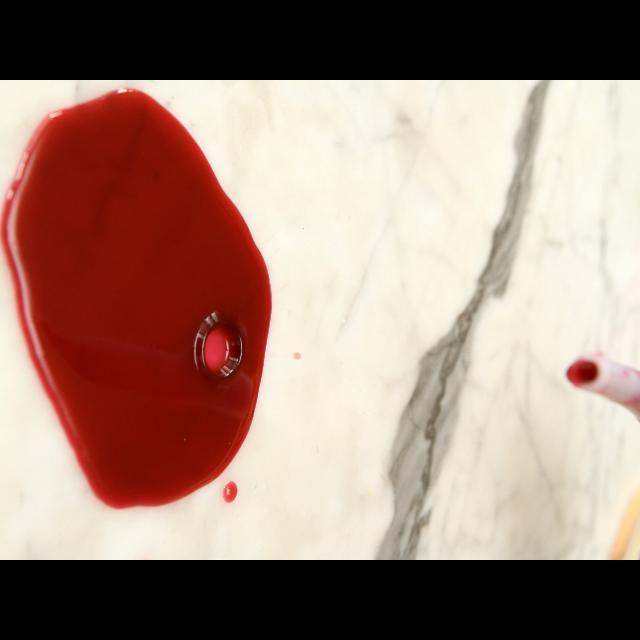blood: (0, 88, 272, 510), (223, 481, 238, 503)
